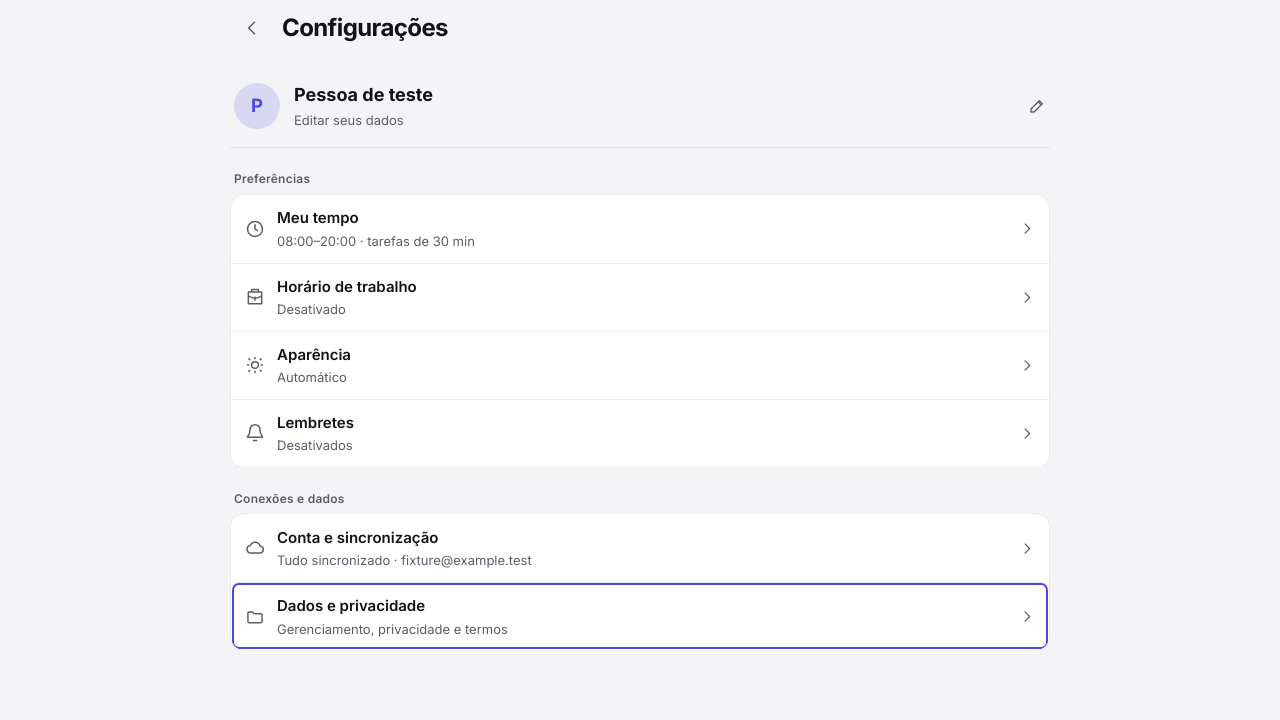
Scenario: conta, dados e Google não têm rodapé de retorno redundante
Earlier steps of the test are not shown.
Click the button "Dados e privacidade Gerenciamento, privacidade e termos": (351, 606) [231, 582, 1049, 650]
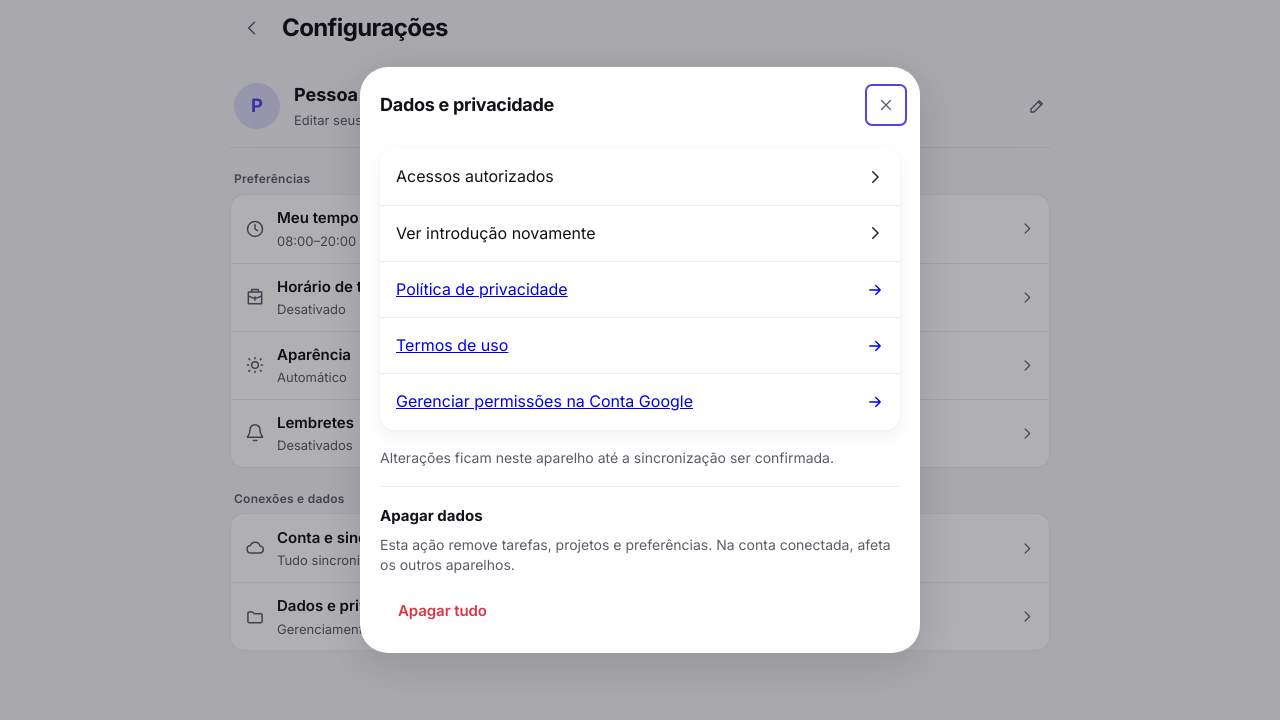
Expected: the button named "Fechar" is shown
Click the button named "Fechar": (886, 105) [864, 83, 908, 127]
Wait 201 ms
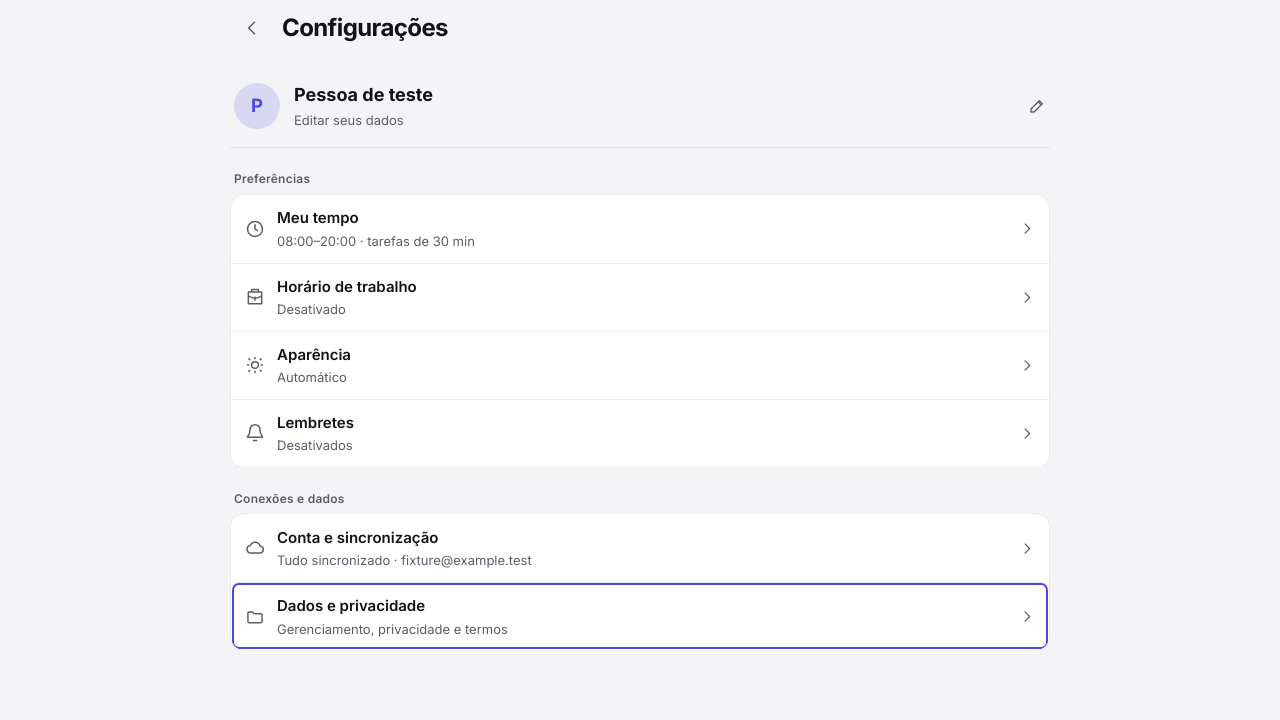
Click the button "Dados e privacidade Gerenciamento, privacidade e termos": (351, 606) [231, 582, 1049, 650]
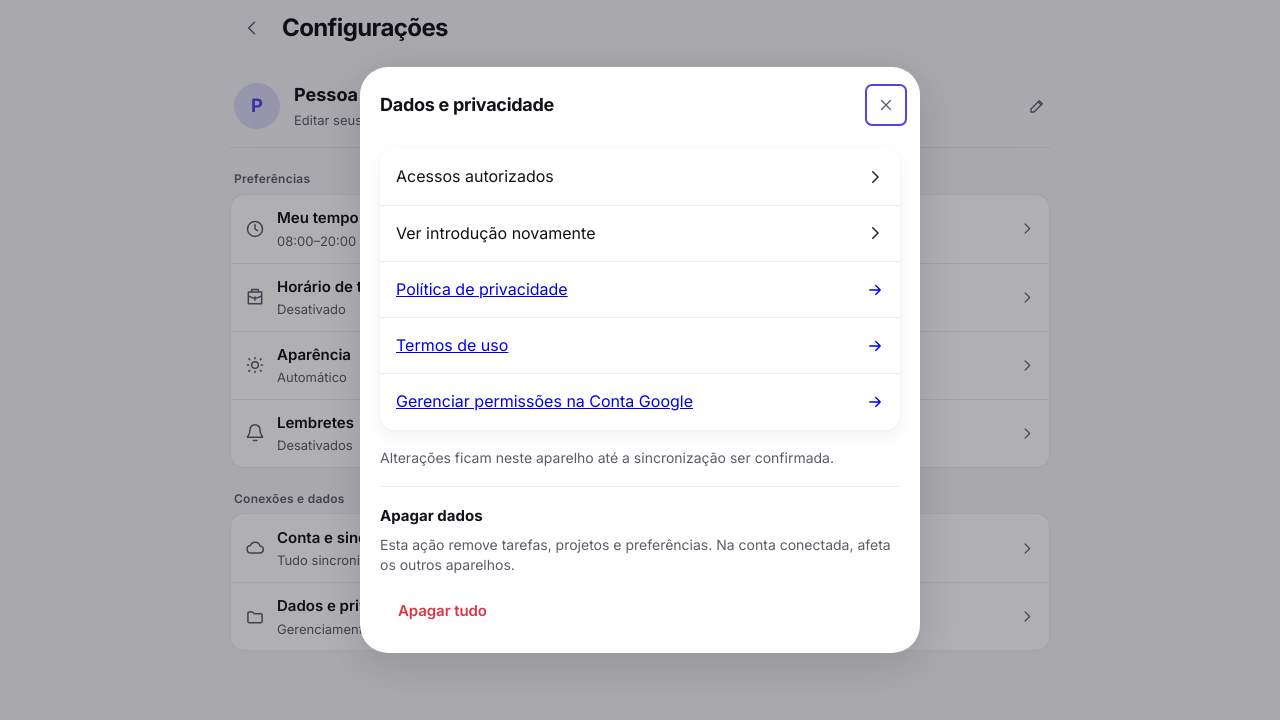
Click the button "Acessos autorizados": (475, 176) [380, 149, 900, 205]
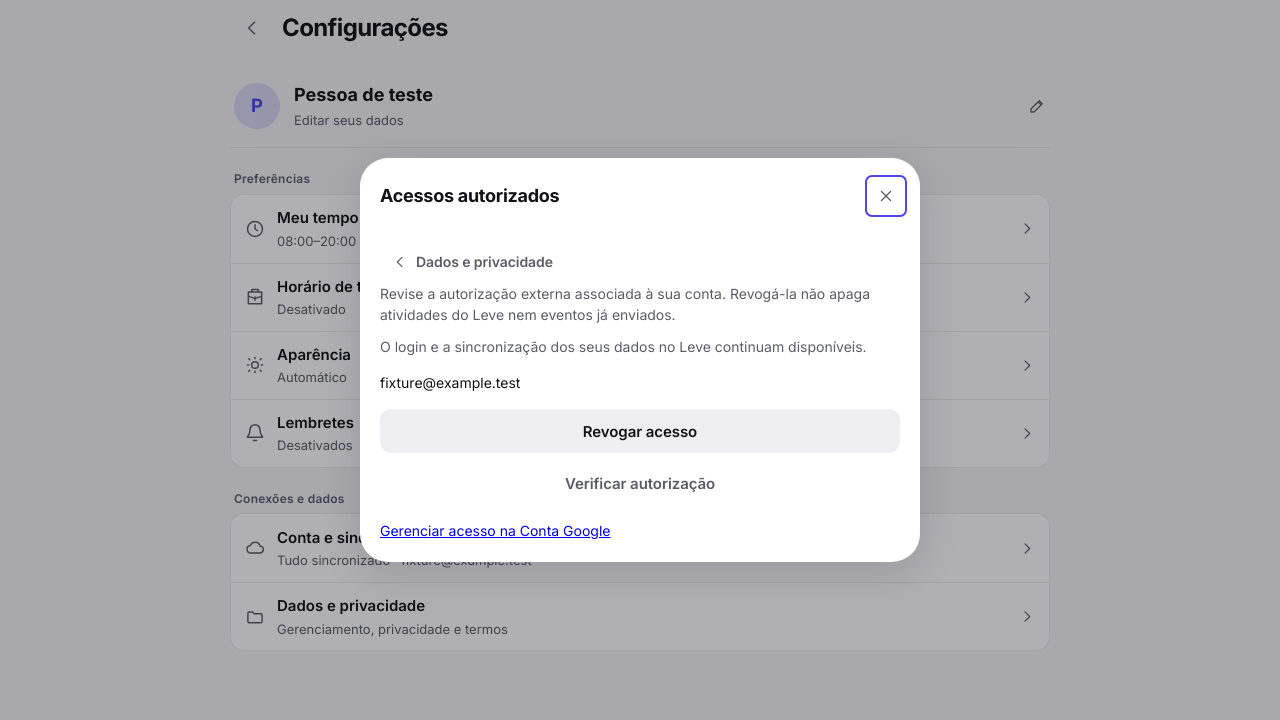
Expected: the button named "Fechar" is shown
Click the button named "Fechar": (886, 196) [864, 174, 908, 218]
Wait 201 ms
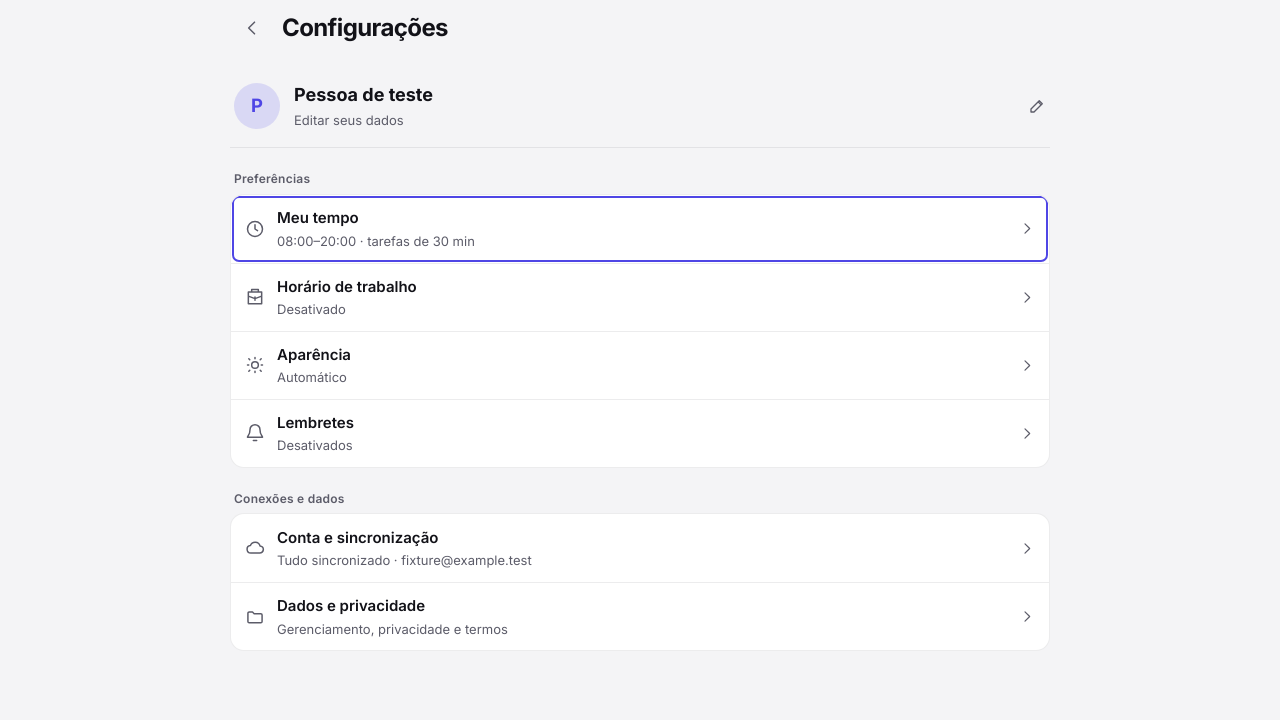
Click the button "Meu tempo 08:00–20:00 · tarefas de 30 min": (318, 218) [231, 195, 1049, 263]
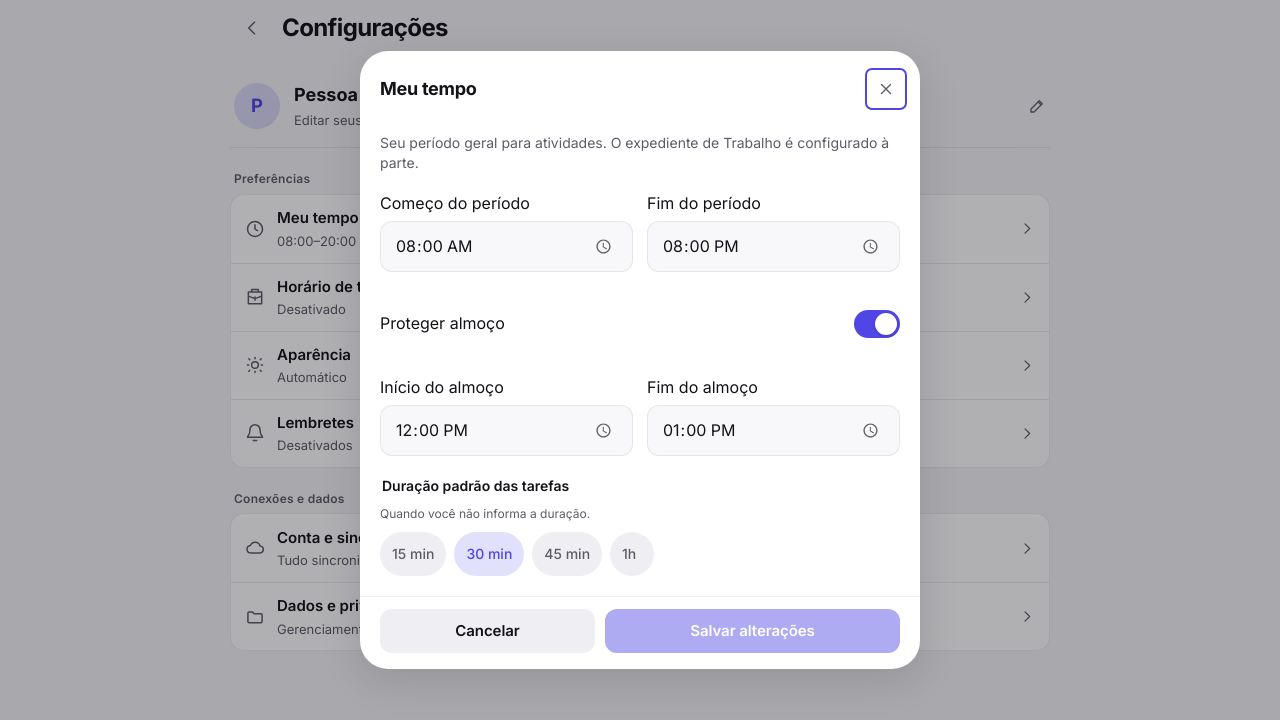
Expected: the element with class "sheet-foot" shows "Salvar alterações", [605, 609, 900, 653]
